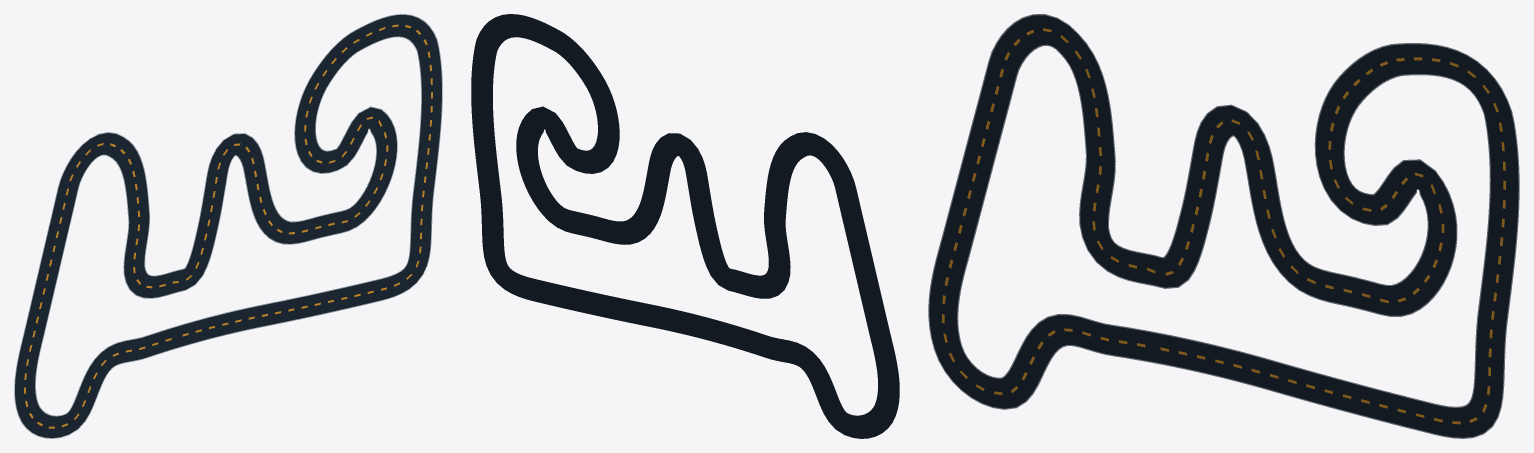
The model's file is track.obj.
3 renders of one model, left to right at view 1: azimuth 30°, elevation 25°; view 2: azimuth 150°, elevation 25°; view 3: azimuth 330°, elevation 25°, orthographic. The views are drawn at different scales.
Size of the model in its own units: 21.06 by 16.07 by 0.002.
